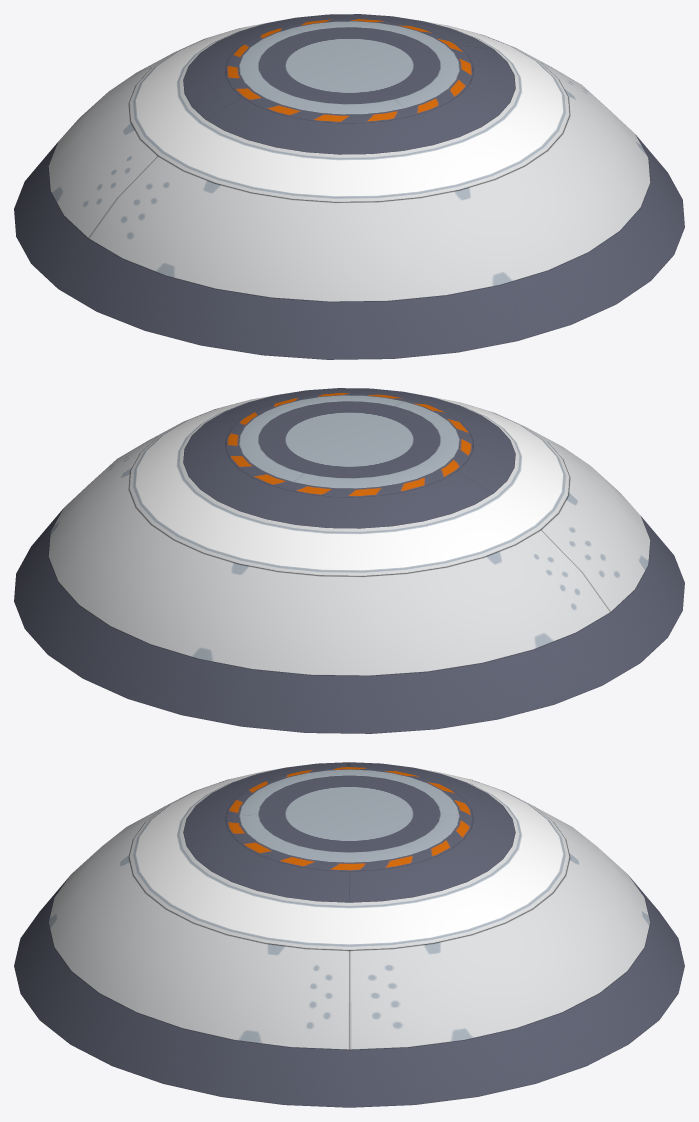
Rendered from Tube_End_03.FBX.
The picture shows the model from 3 angles, top to bottom: view 1: azimuth 30°, elevation 25°; view 2: azimuth 150°, elevation 25°; view 3: azimuth 270°, elevation 25°; orthographic projection.
Visible parts, largest first — view 1: Tube_End_03; view 2: Tube_End_03; view 3: Tube_End_03.
Part boxes in pixels (x1,y1,x2,y2): Tube_End_03: (14,14,684,359); Tube_End_03: (14,388,684,733); Tube_End_03: (14,762,684,1107).
Size of the model in its own units: 4 by 1 by 4.
